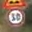limite 30: (5, 7, 25, 27)
